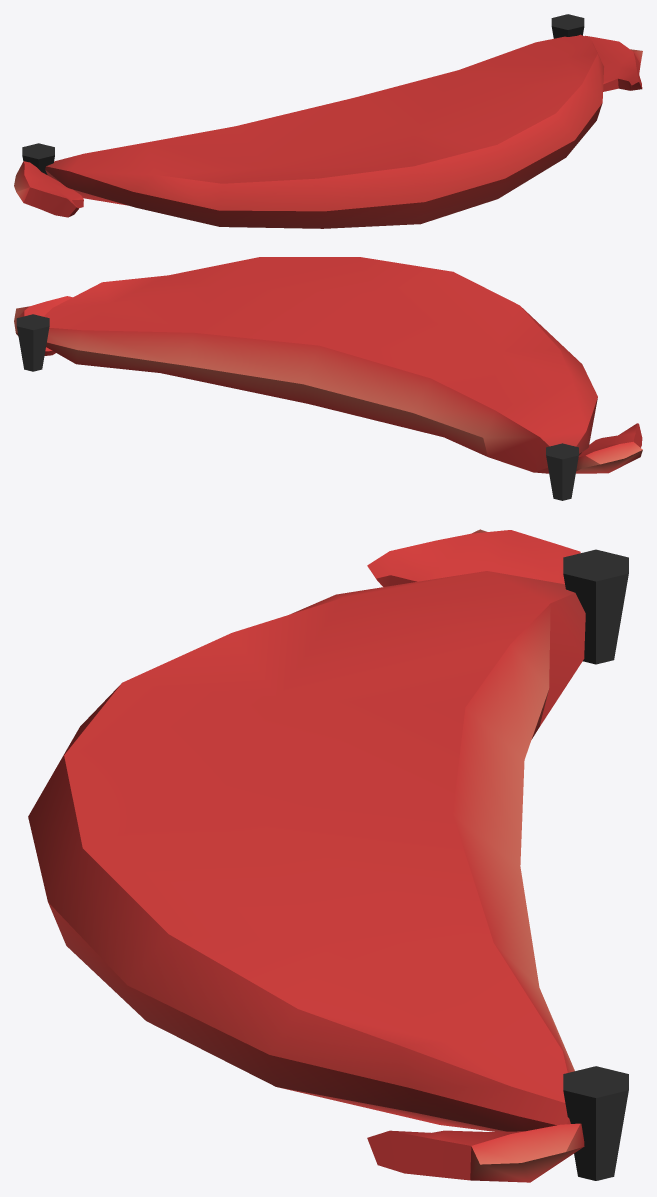
File: bannerRed.fbx
The picture shows the model from 3 angles, top to bottom: view 1: azimuth 30°, elevation 25°; view 2: azimuth 150°, elevation 25°; view 3: azimuth 270°, elevation 25°; orthographic projection. The views are drawn at different scales.
Visible parts, largest first — view 1: BannerRed; view 2: BannerRed; view 3: BannerRed.
Part boxes in pixels (x1=…): BannerRed: x1=14, y1=14, x2=642, y2=228; BannerRed: x1=14, y1=257, x2=642, y2=500; BannerRed: x1=28, y1=529, x2=628, y2=1182.
Size of the model in its own units: 187 by 20.46 by 77.5.
